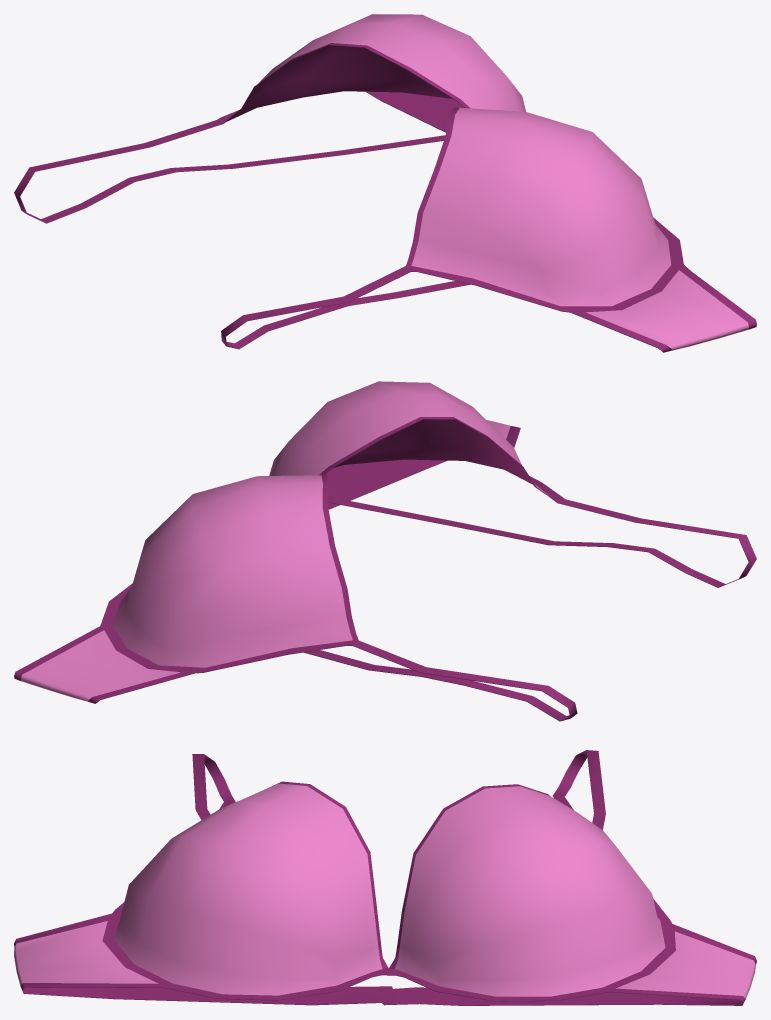
File: Bra.fbx
3 renders of one model, top to bottom at view 1: azimuth 30°, elevation 25°; view 2: azimuth 150°, elevation 25°; view 3: azimuth 270°, elevation 25°, orthographic. The views are drawn at different scales.
Visible parts, largest first — view 1: Bra.003; view 2: Bra.003; view 3: Bra.003.
Boxes of the visible parts, x1=… form: Bra.003: x1=14, y1=14, x2=756, y2=352; Bra.003: x1=14, y1=381, x2=756, y2=721; Bra.003: x1=14, y1=750, x2=756, y2=1005.
Size of the model in its own units: 104 by 29.78 by 145.
